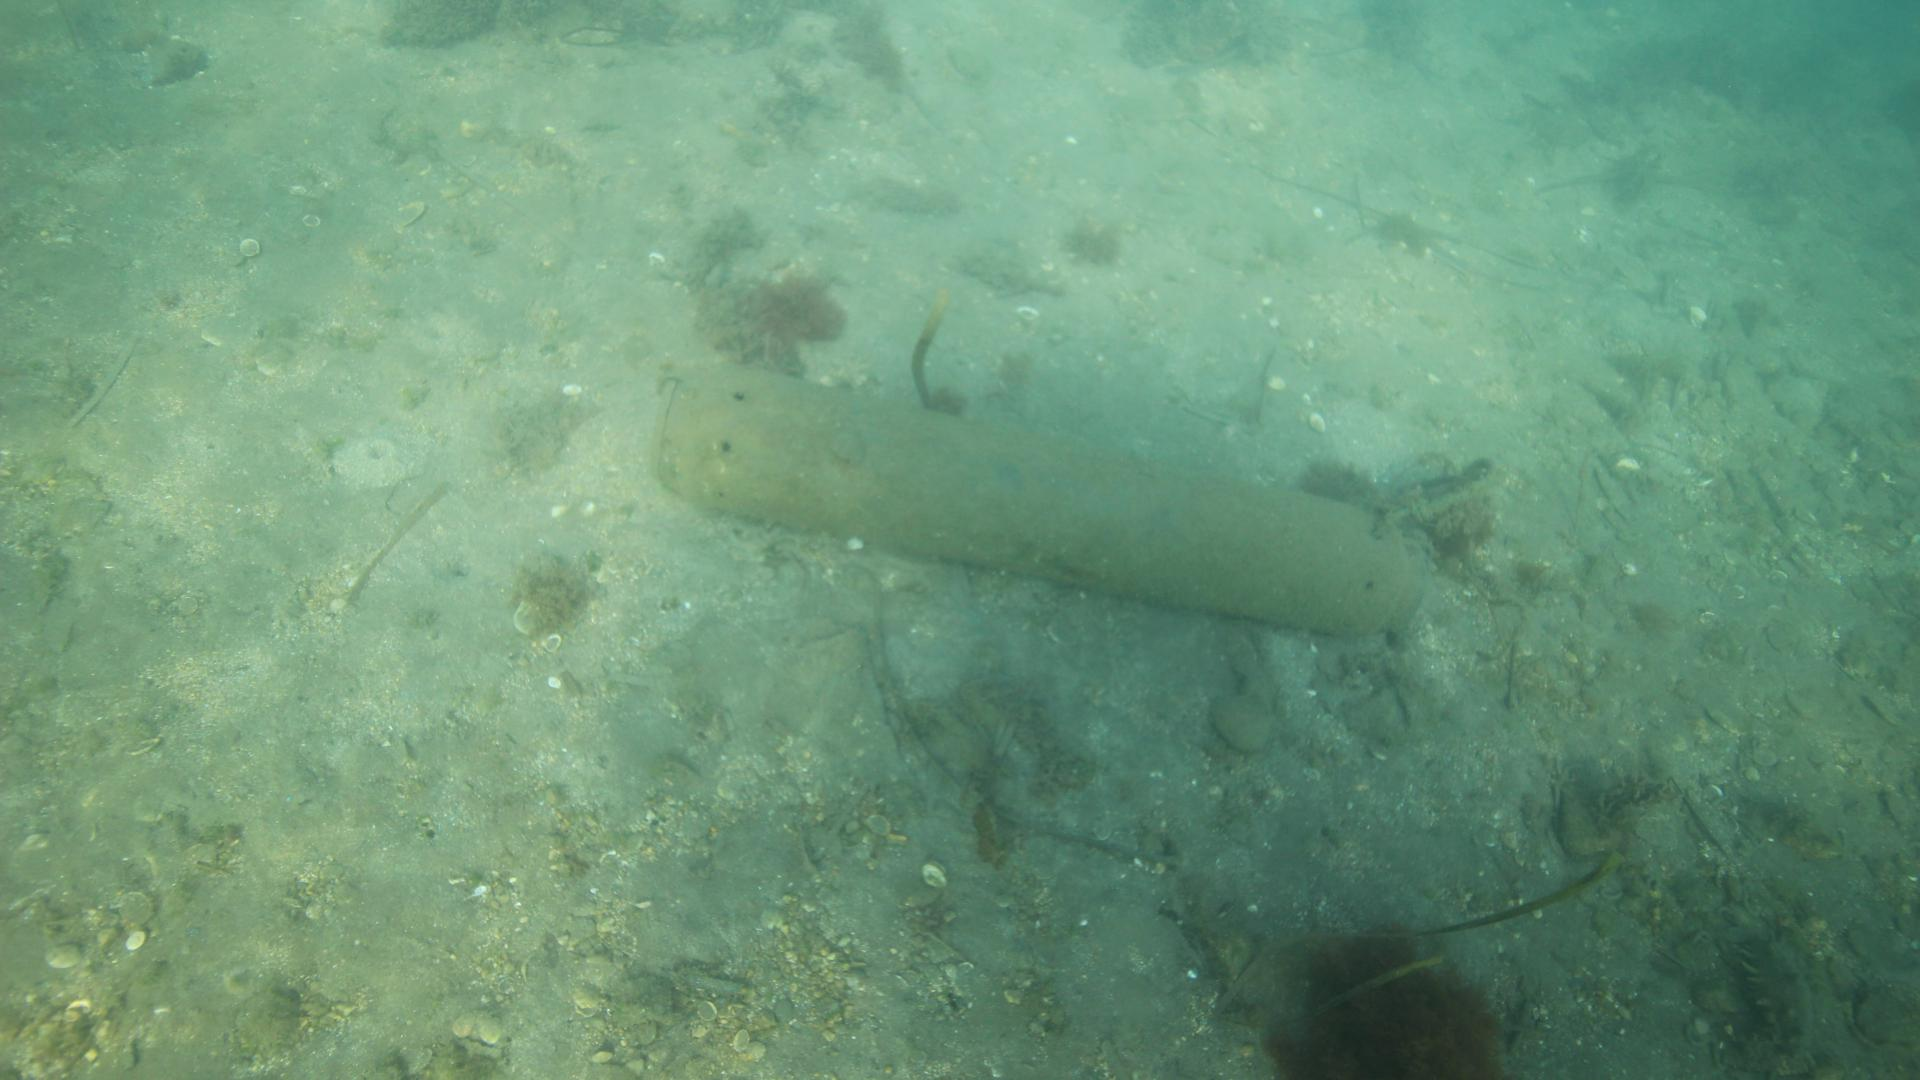eel fish trap: (649, 365, 1429, 644)
